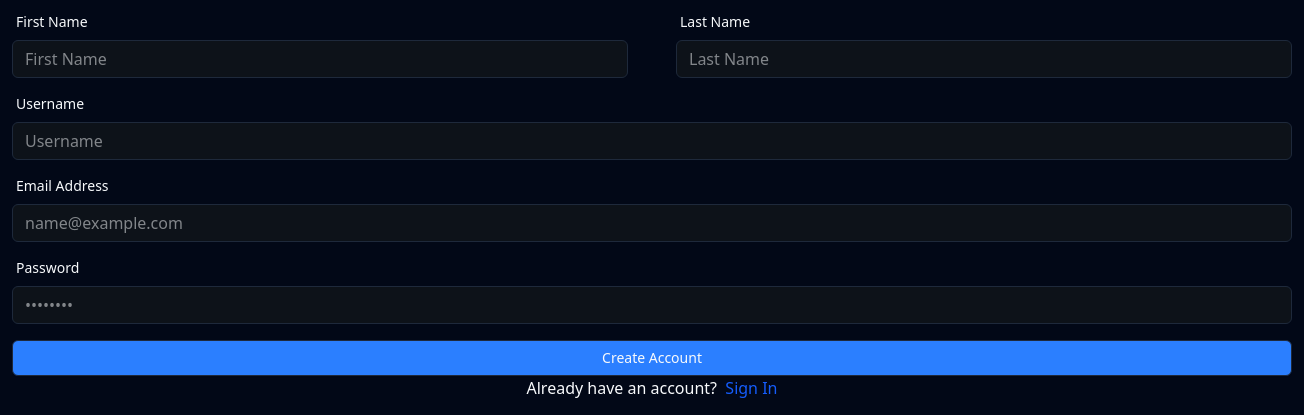
Scenario: SignUpForm › Step 1: Account Creation › transitions to verification screen on successful sign-up
Type "John" into the field labelled "First Name" at [320, 59], box [12,40,628,78]
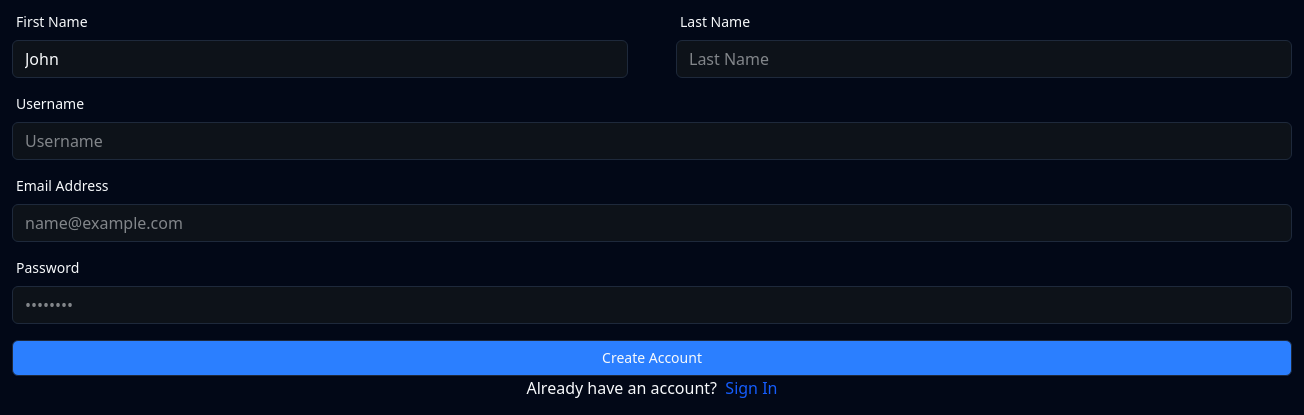
Type "Doe" into the field labelled "Last Name" at [984, 59], box [676,40,1292,78]
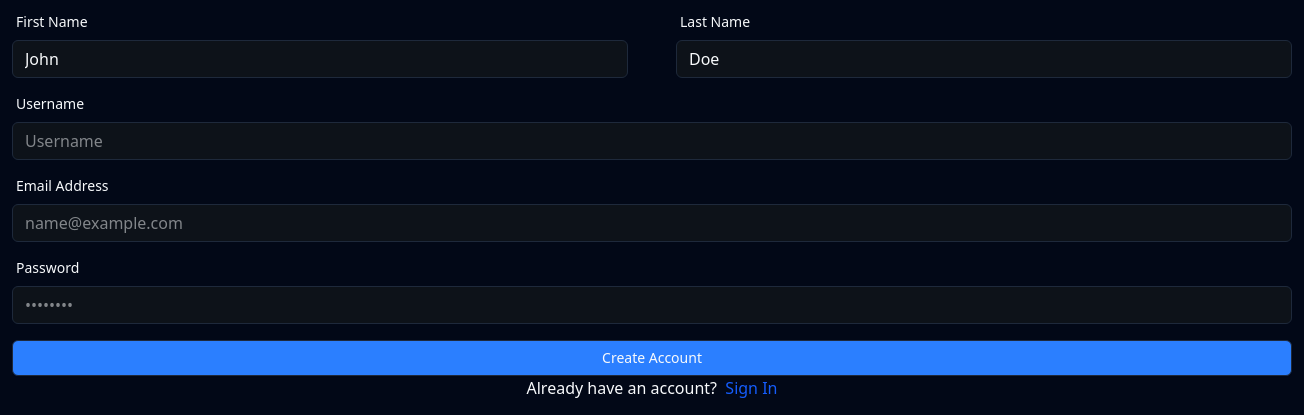
Type "johndoe" into the field labelled "Username" at [652, 141], box [12,122,1292,160]
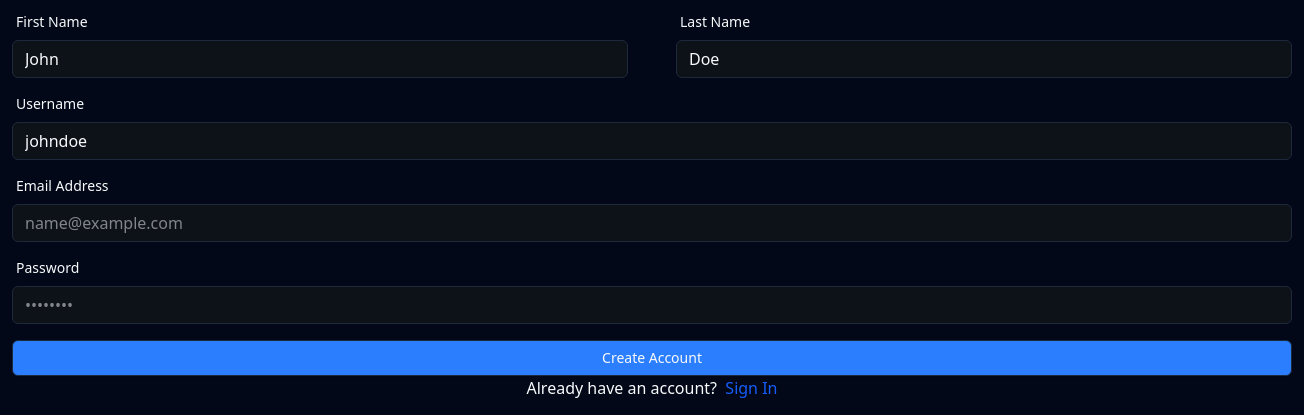
Type "john@doe.com" into the field labelled "Email Address" at [652, 223], box [12,204,1292,242]
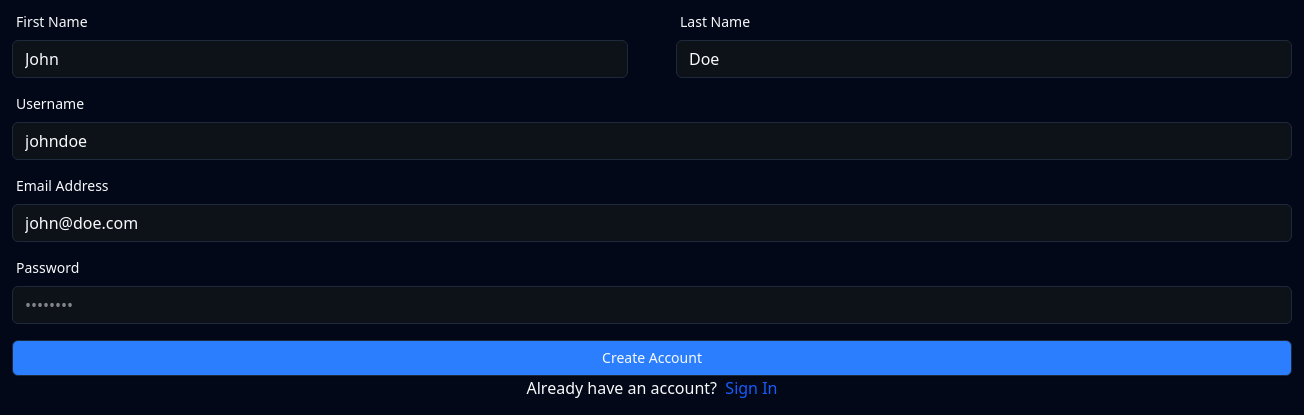
Type "StrongPassword123" into the password field labelled "Password" at [652, 305], box [12,286,1292,324]
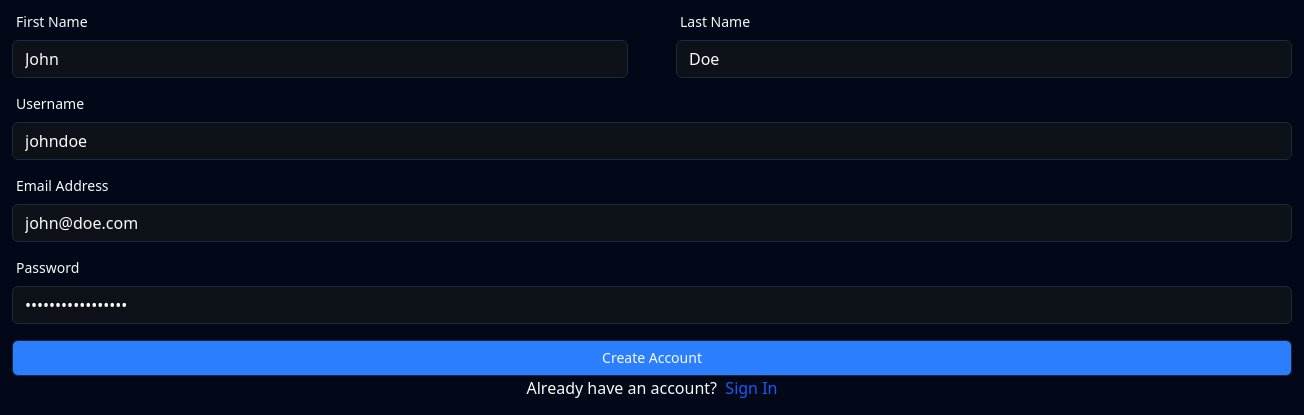
Click the button "Create Account" at [652, 358], box [12,340,1292,376]
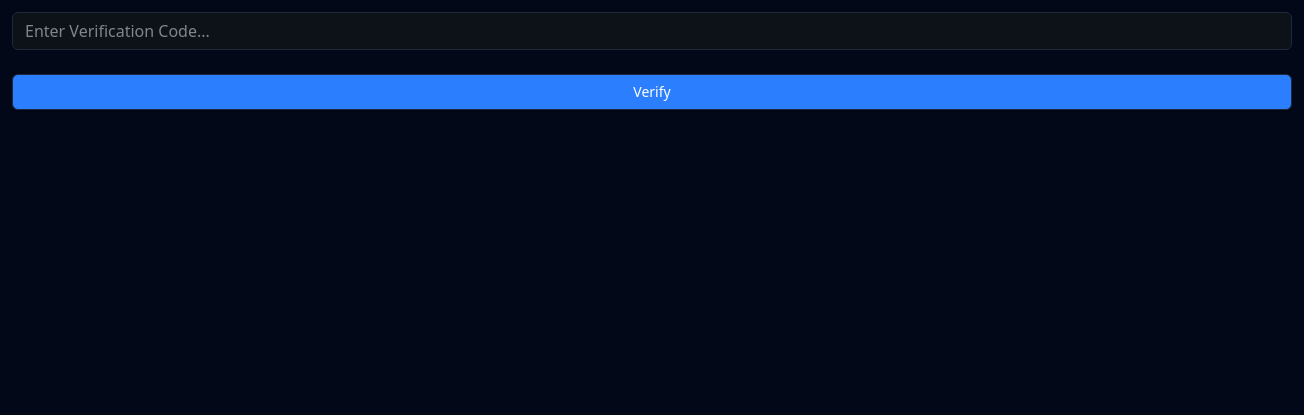
Check: the field named "verification code input" is shown, box [12,12,1292,50]
